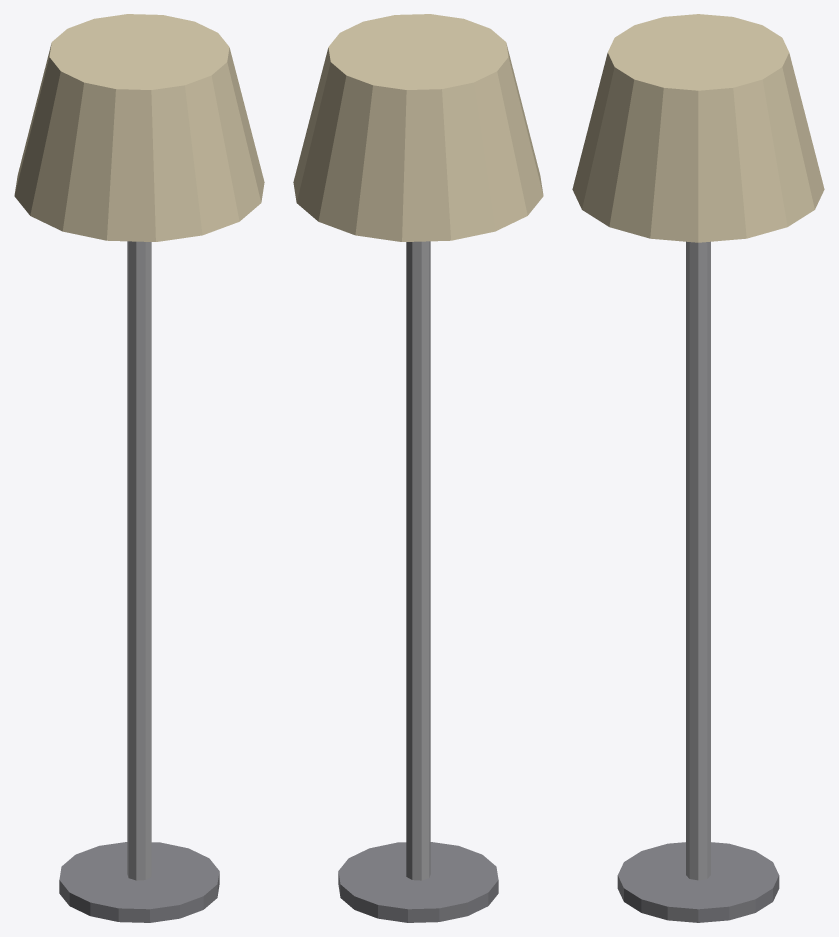
File: liv_ilum_chao.glb
3 renders of one model, left to right at view 1: azimuth 30°, elevation 25°; view 2: azimuth 150°, elevation 25°; view 3: azimuth 270°, elevation 25°, orthographic.
Visible parts, largest first — view 1: LIV_Ilum_Chao_v01; view 2: LIV_Ilum_Chao_v01; view 3: LIV_Ilum_Chao_v01.
Part boxes in pixels (bbox=[...]): LIV_Ilum_Chao_v01: bbox=[14, 14, 264, 922]; LIV_Ilum_Chao_v01: bbox=[293, 14, 543, 922]; LIV_Ilum_Chao_v01: bbox=[572, 14, 824, 922].
Size of the model in its own units: 0.5 by 1.83 by 0.5.
